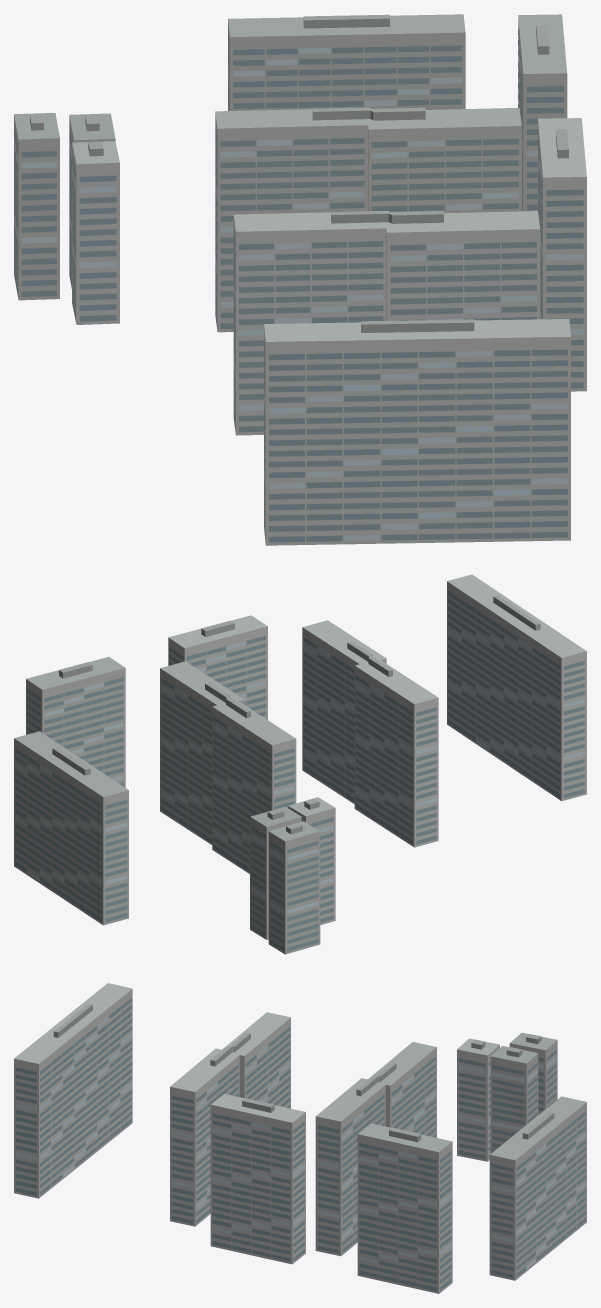
File: apt-a13804004.glb
The picture shows the model from 3 angles, top to bottom: view 1: azimuth 30°, elevation 25°; view 2: azimuth 150°, elevation 25°; view 3: azimuth 270°, elevation 25°; orthographic projection. The views are drawn at different scales.
Visible parts, largest first — view 1: apt-a13804004; view 2: apt-a13804004; view 3: apt-a13804004.
Boxes of the visible parts, x1=… form: apt-a13804004: x1=14, y1=14, x2=586, y2=545; apt-a13804004: x1=14, y1=574, x2=586, y2=954; apt-a13804004: x1=14, y1=983, x2=586, y2=1293.
Size of the model in its own units: 163 by 63.4 by 224.
